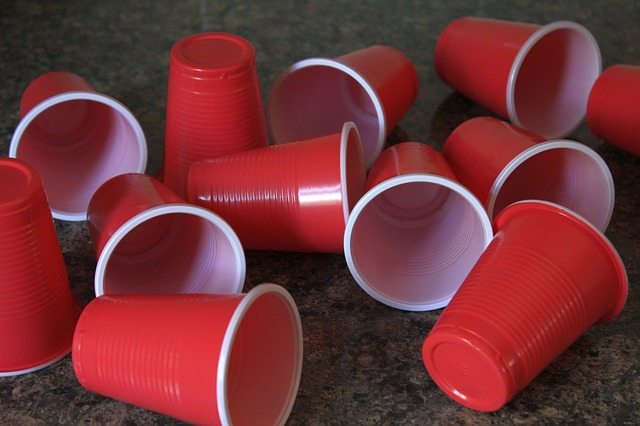cup: (423, 199, 630, 410), (68, 279, 312, 425), (340, 137, 504, 319), (69, 177, 286, 292), (184, 122, 366, 256), (428, 11, 612, 141), (442, 114, 620, 243), (1, 157, 84, 374), (271, 43, 423, 156), (8, 67, 152, 181), (155, 31, 285, 157)
